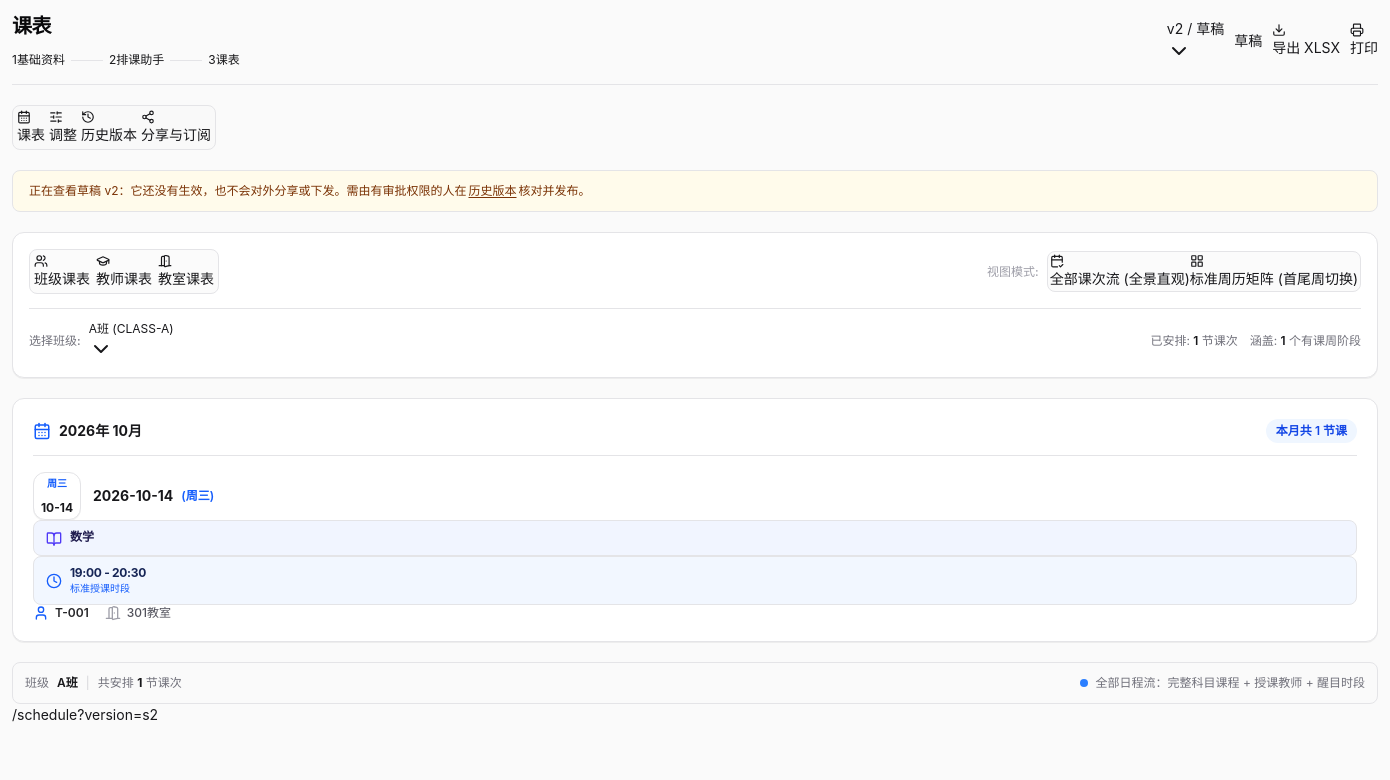
Test case: SchedulePage hub › role gating › gives schedulers adjust and share but publishing stays an approver action
Check: the button with test id "lesson-card-COURSE-1" is shown, box [33,472,1357,621]
Check: the text "正在查看草稿 v2：它还没有生效，也不会对外分享或下发。需由有审批权限的人在 历史版本 核对并发布。" is shown, box [12,170,1378,212]
Click the tab "历史版本": (109, 128) [81,110,137,145]
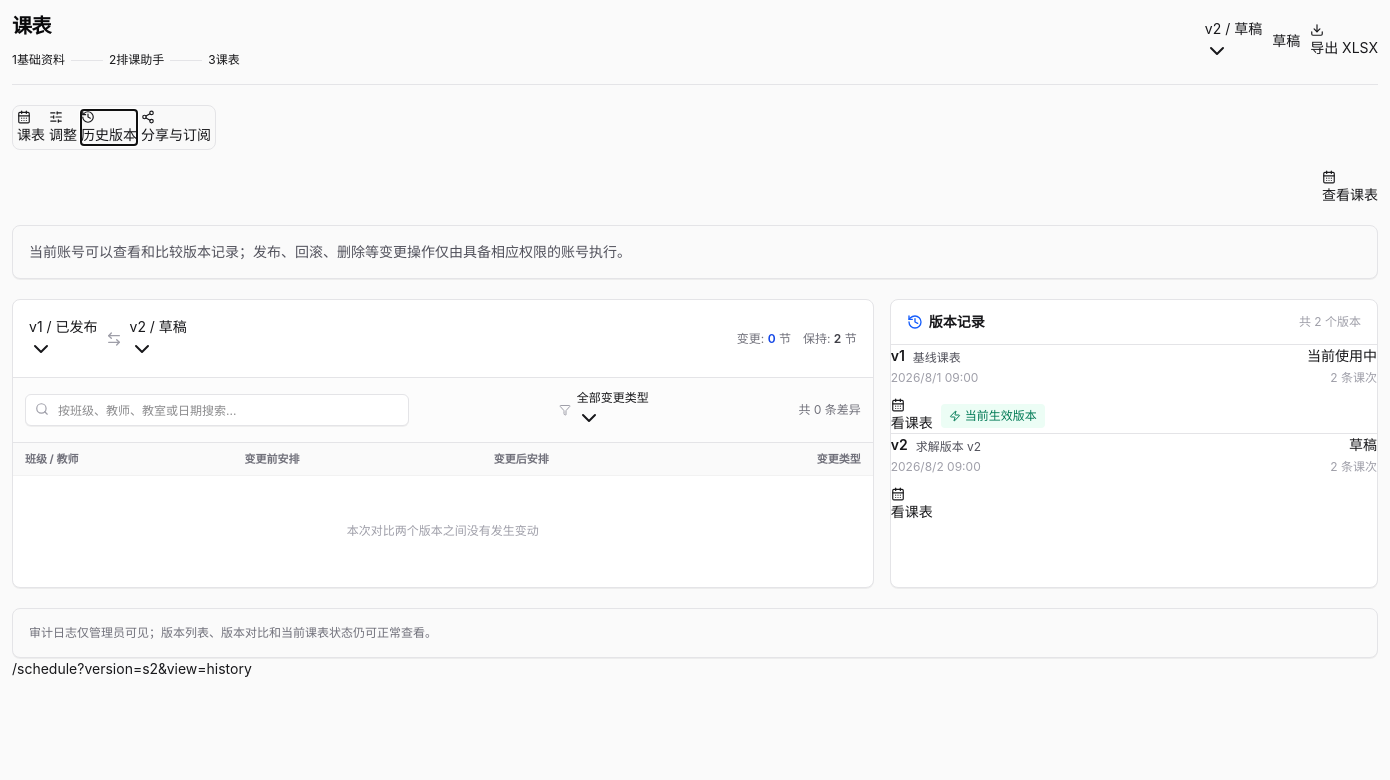
Check: the text "版本记录" is shown, box [907,312,985,332]
